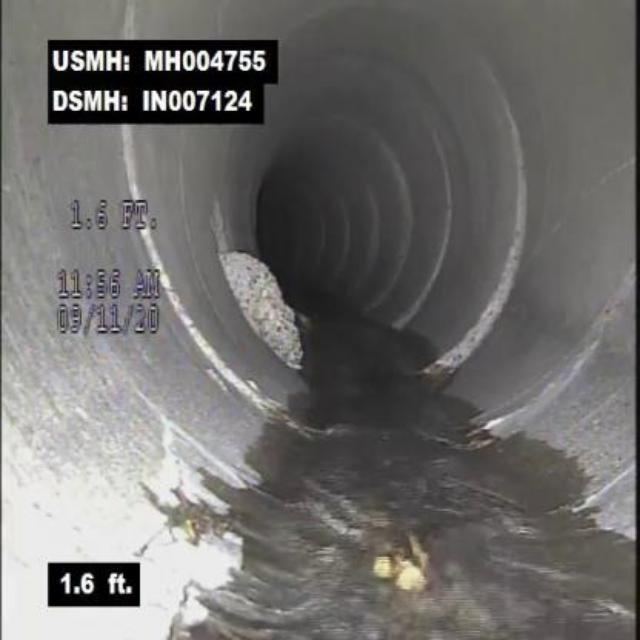Debris: (206, 220, 318, 372)
